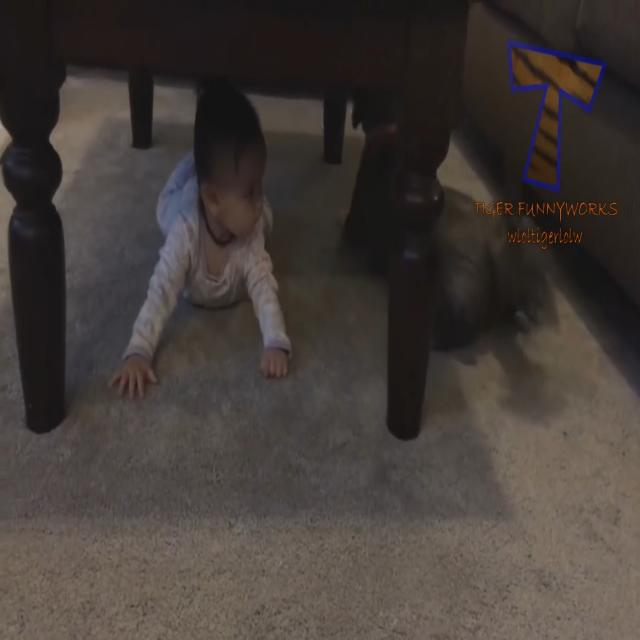safe: (130, 72, 288, 385)
